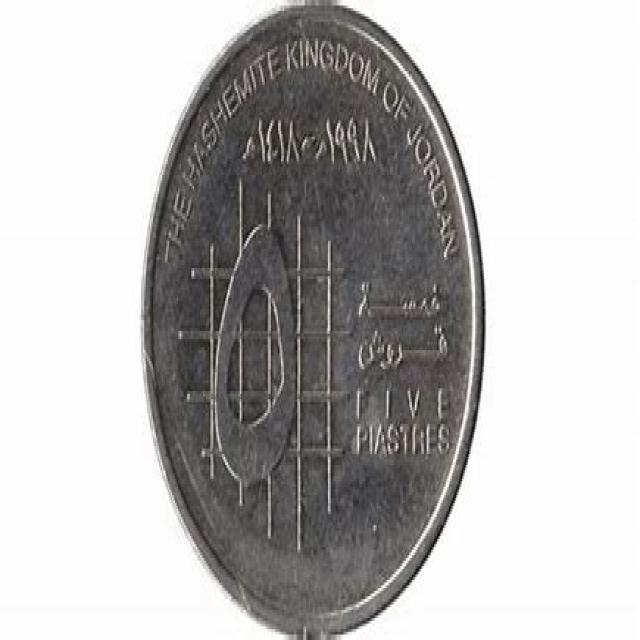5-coins: (140, 0, 489, 640)
